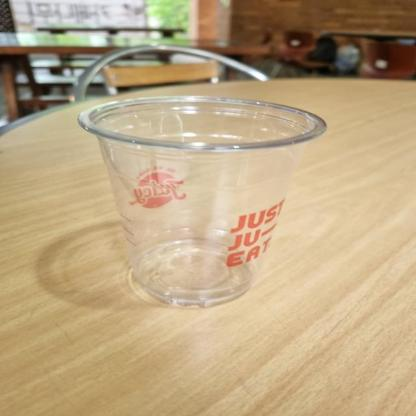Plastic Cup: (68, 90, 336, 314)
